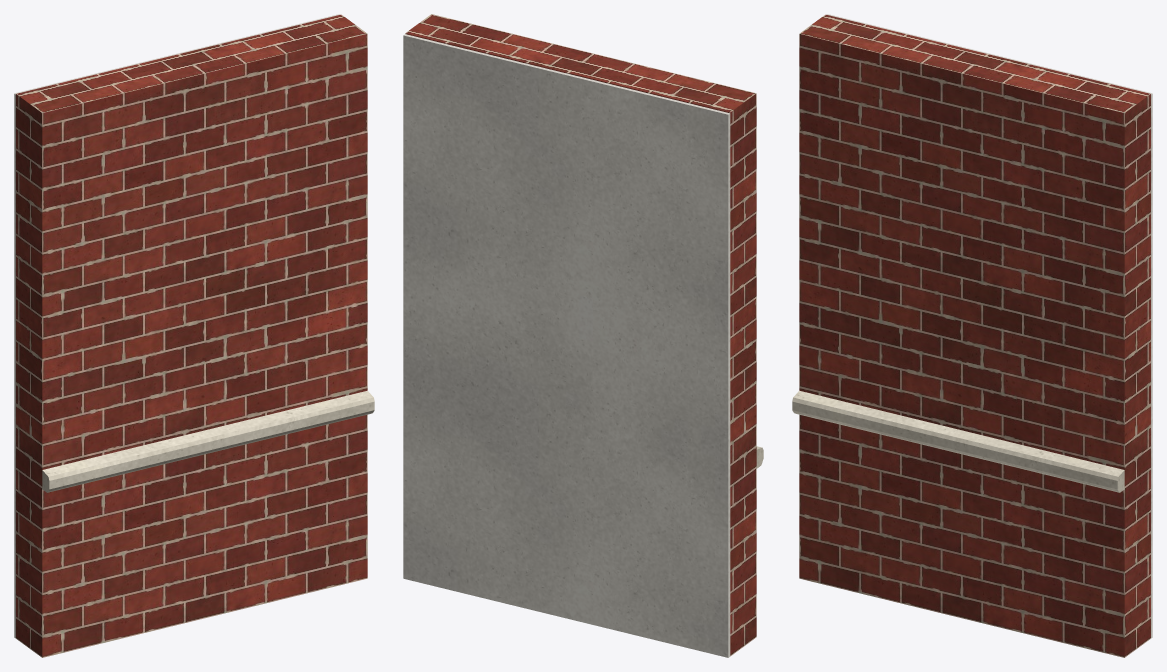
The model's file is u2_wall_plain.glb.
3 views of the same model, side by side, from view 1: azimuth 30°, elevation 25°; view 2: azimuth 150°, elevation 25°; view 3: azimuth 330°, elevation 25° (orthographic).
Visible parts, largest first — view 1: u2_wall_plain_brick, u2_wall_plain_trim, u2_wall_plain_plaster; view 2: u2_wall_plain_plaster, u2_wall_plain_brick; view 3: u2_wall_plain_brick, u2_wall_plain_trim, u2_wall_plain_plaster.
Boxes of the visible parts, x1,y1,x2,y2 form: u2_wall_plain_brick: (16, 14, 367, 657); u2_wall_plain_trim: (42, 390, 374, 492); u2_wall_plain_plaster: (14, 14, 340, 638); u2_wall_plain_plaster: (403, 34, 730, 657); u2_wall_plain_brick: (405, 14, 756, 656); u2_wall_plain_brick: (799, 14, 1150, 657); u2_wall_plain_trim: (792, 390, 1124, 492); u2_wall_plain_plaster: (826, 14, 1152, 638).
Size of the model in its own units: 2 by 3.2 by 0.375.
3 materials, 3 textured.
